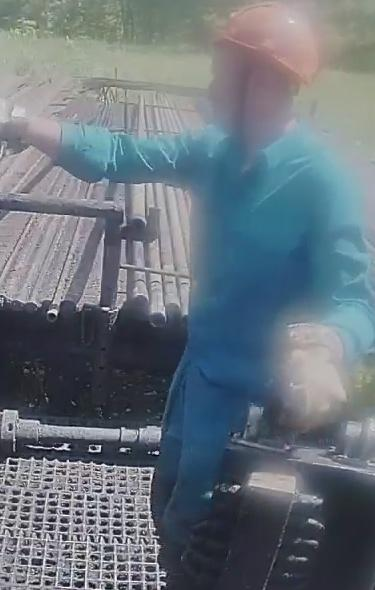gloves: (272, 312, 354, 437), (0, 94, 34, 163)
helmet: (200, 0, 328, 88)
vest: (178, 126, 359, 421)
